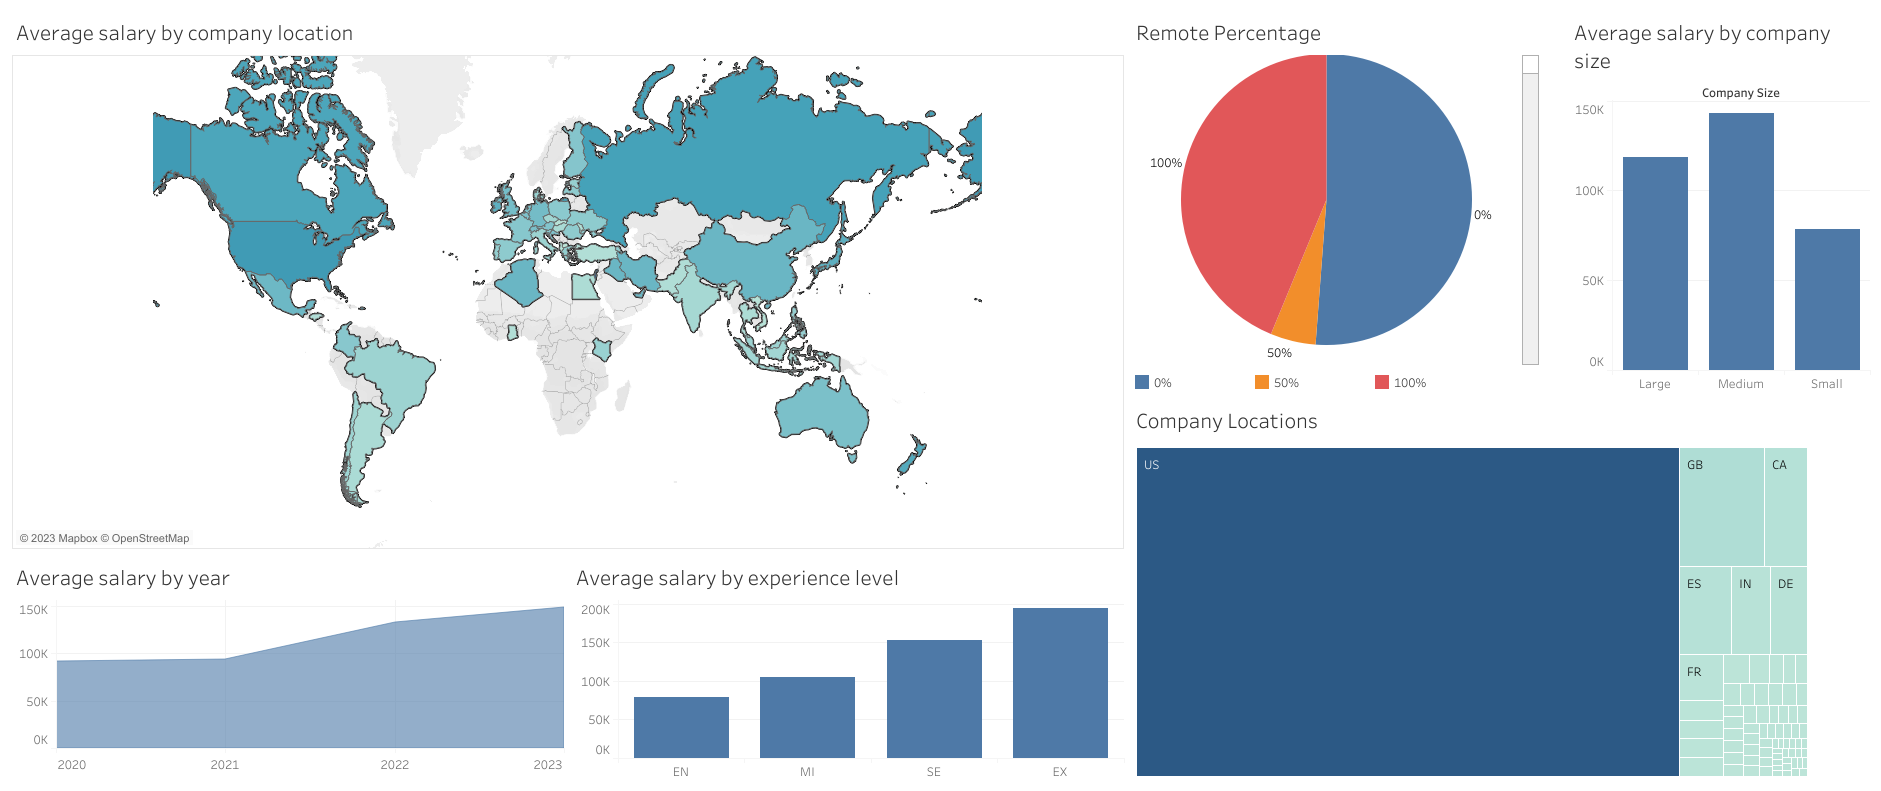

The page's visual inventory and layout, read from the dashboard file:
{"tool":"tableau","page":{"name":"Dashboard 1","canvas":[1000,1000],"units":"permille","ordinal":0},"visuals":[{"type":"worksheet","title":"Sheet 6","mark":"Automatic","box":[4.7,8.8,548.9,542]},{"type":"worksheet","title":"Sheet 8","mark":"Pie","box":[553.5,8.8,261,433.6]},{"type":"worksheet","title":"Sheet 4","mark":"Automatic","rows":["salary_in_usd"],"cols":["experience_level"],"box":[814.5,8.8,180.8,542]},{"type":"legend","title":"Sheet 6","param":"[federated.1s4q7d31hp29xr182mrfz1g11azw].[avg:salary_in_usd:qk]","box":[553.5,442.5,133.4,108.4]},{"type":"legend","title":"Sheet 8","param":"[federated.1s4q7d31hp29xr182mrfz1g11azw].[none:remote_ratio:ok]","box":[687,442.5,127.6,108.4]},{"type":"worksheet","title":"Sheet 5","mark":"Automatic","rows":["salary_in_usd"],"cols":["company_size"],"box":[4.7,550.9,206.6,440.3]},{"type":"worksheet","title":"Sheet 7","mark":"Automatic","box":[211.2,550.9,360.4,440.3]},{"type":"worksheet","title":"Sheet 2","mark":"Area","rows":["salary_in_usd"],"cols":["work_year"],"box":[571.7,550.9,423.6,440.3]}]}

Visuals, with their boxes on the dashboard's canvas, which has no fixed pixel size, in thousandths of its width and height (x1, y1, x2, y2). These are canvas units, not pixel positions in the 1881x791 screenshot, which may show the page scaled, cropped or inside an application window:
"Sheet 6" worksheet: left=5, top=9, right=554, bottom=551
"Sheet 8" worksheet (Pie marks): left=554, top=9, right=814, bottom=442
"Sheet 4" worksheet: left=814, top=9, right=995, bottom=551
"Sheet 6" legend: left=554, top=442, right=687, bottom=551
"Sheet 8" legend: left=687, top=442, right=815, bottom=551
"Sheet 5" worksheet: left=5, top=551, right=211, bottom=991
"Sheet 7" worksheet: left=211, top=551, right=572, bottom=991
"Sheet 2" worksheet (Area marks): left=572, top=551, right=995, bottom=991
